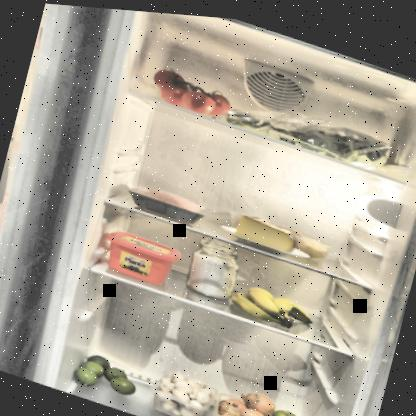apple: (260, 392, 331, 415)
banana: (226, 275, 318, 332)
butter: (100, 223, 183, 288)
cheese: (232, 207, 300, 253)
green_beans: (214, 92, 294, 140)
ground_beef: (122, 177, 209, 225)
lime: (73, 348, 141, 401)
mushrooms: (148, 360, 221, 415)
onion: (209, 375, 284, 415)
potato: (278, 219, 335, 259)
spinach: (280, 101, 394, 171)
tomato: (146, 60, 238, 120)
